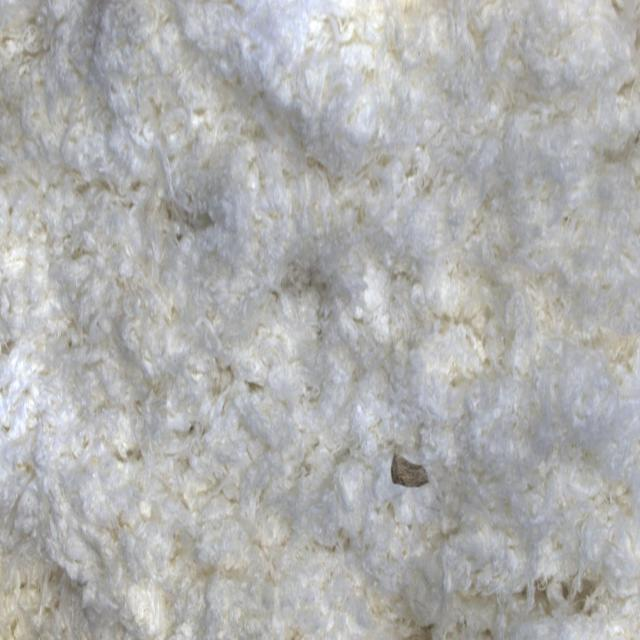dust: (365, 405, 452, 525)
